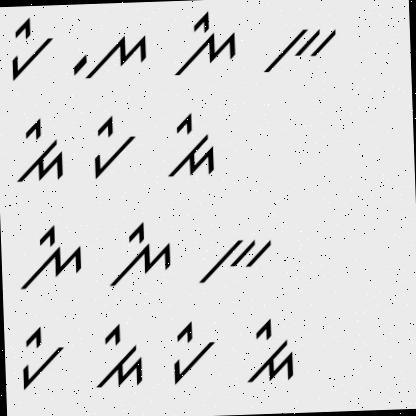di: (238, 315, 300, 389), (87, 321, 148, 396), (162, 110, 218, 180), (10, 117, 66, 186)
ni: (12, 222, 87, 293), (105, 218, 178, 289), (170, 9, 242, 76)
pi: (14, 324, 70, 394), (84, 116, 142, 180), (5, 12, 59, 80), (166, 319, 217, 389)
